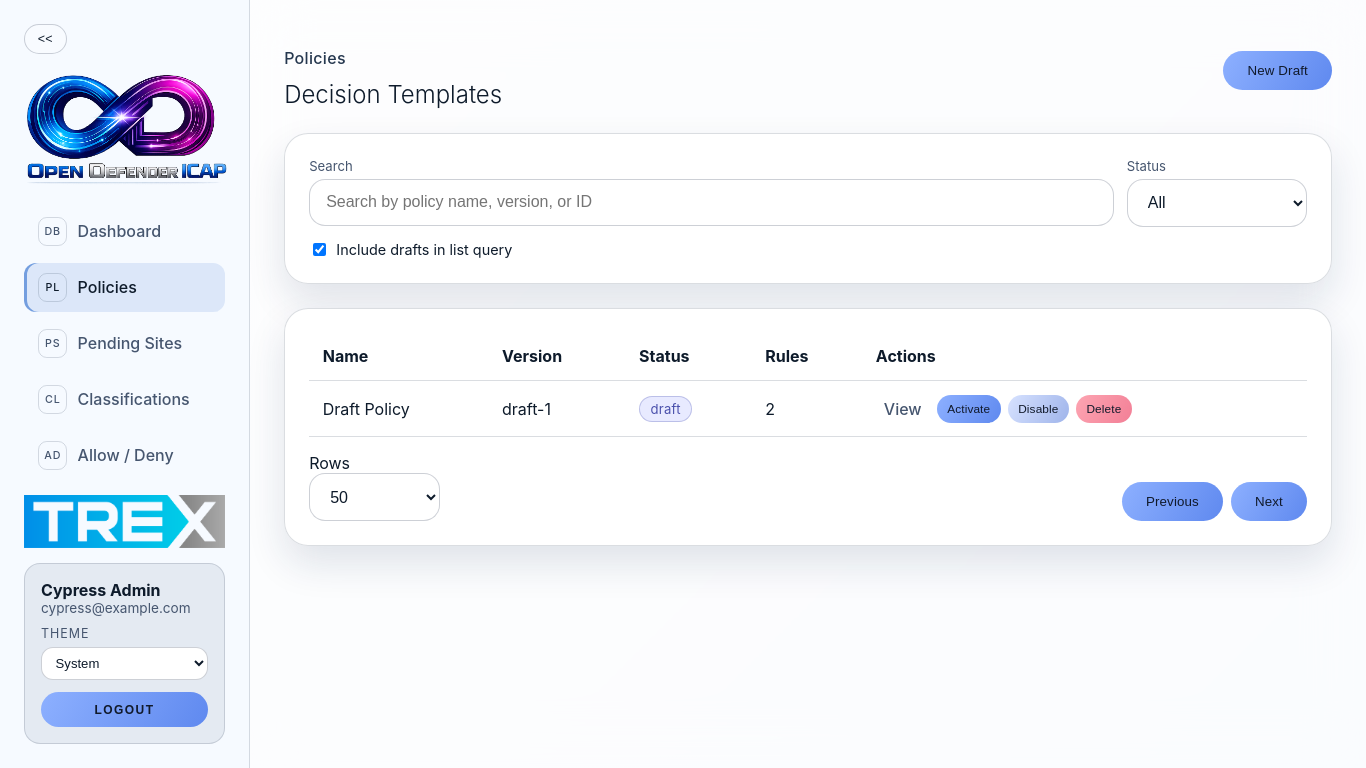
Policies lifecycle › activates a draft policy from the list
Click the button "Activate": point(969, 409) [937,395,1001,423]
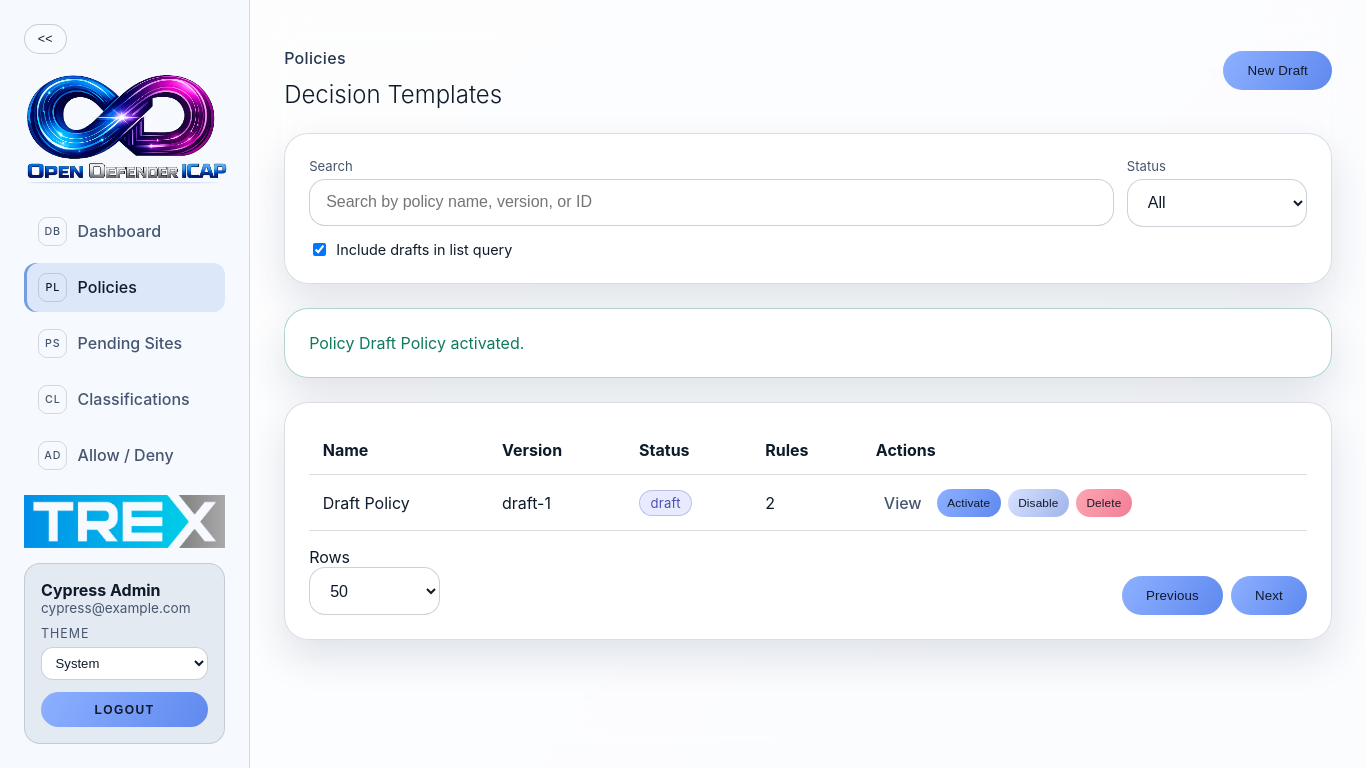
Result: the text "Policy Draft Policy activated." is shown at [309,333,524,353]
